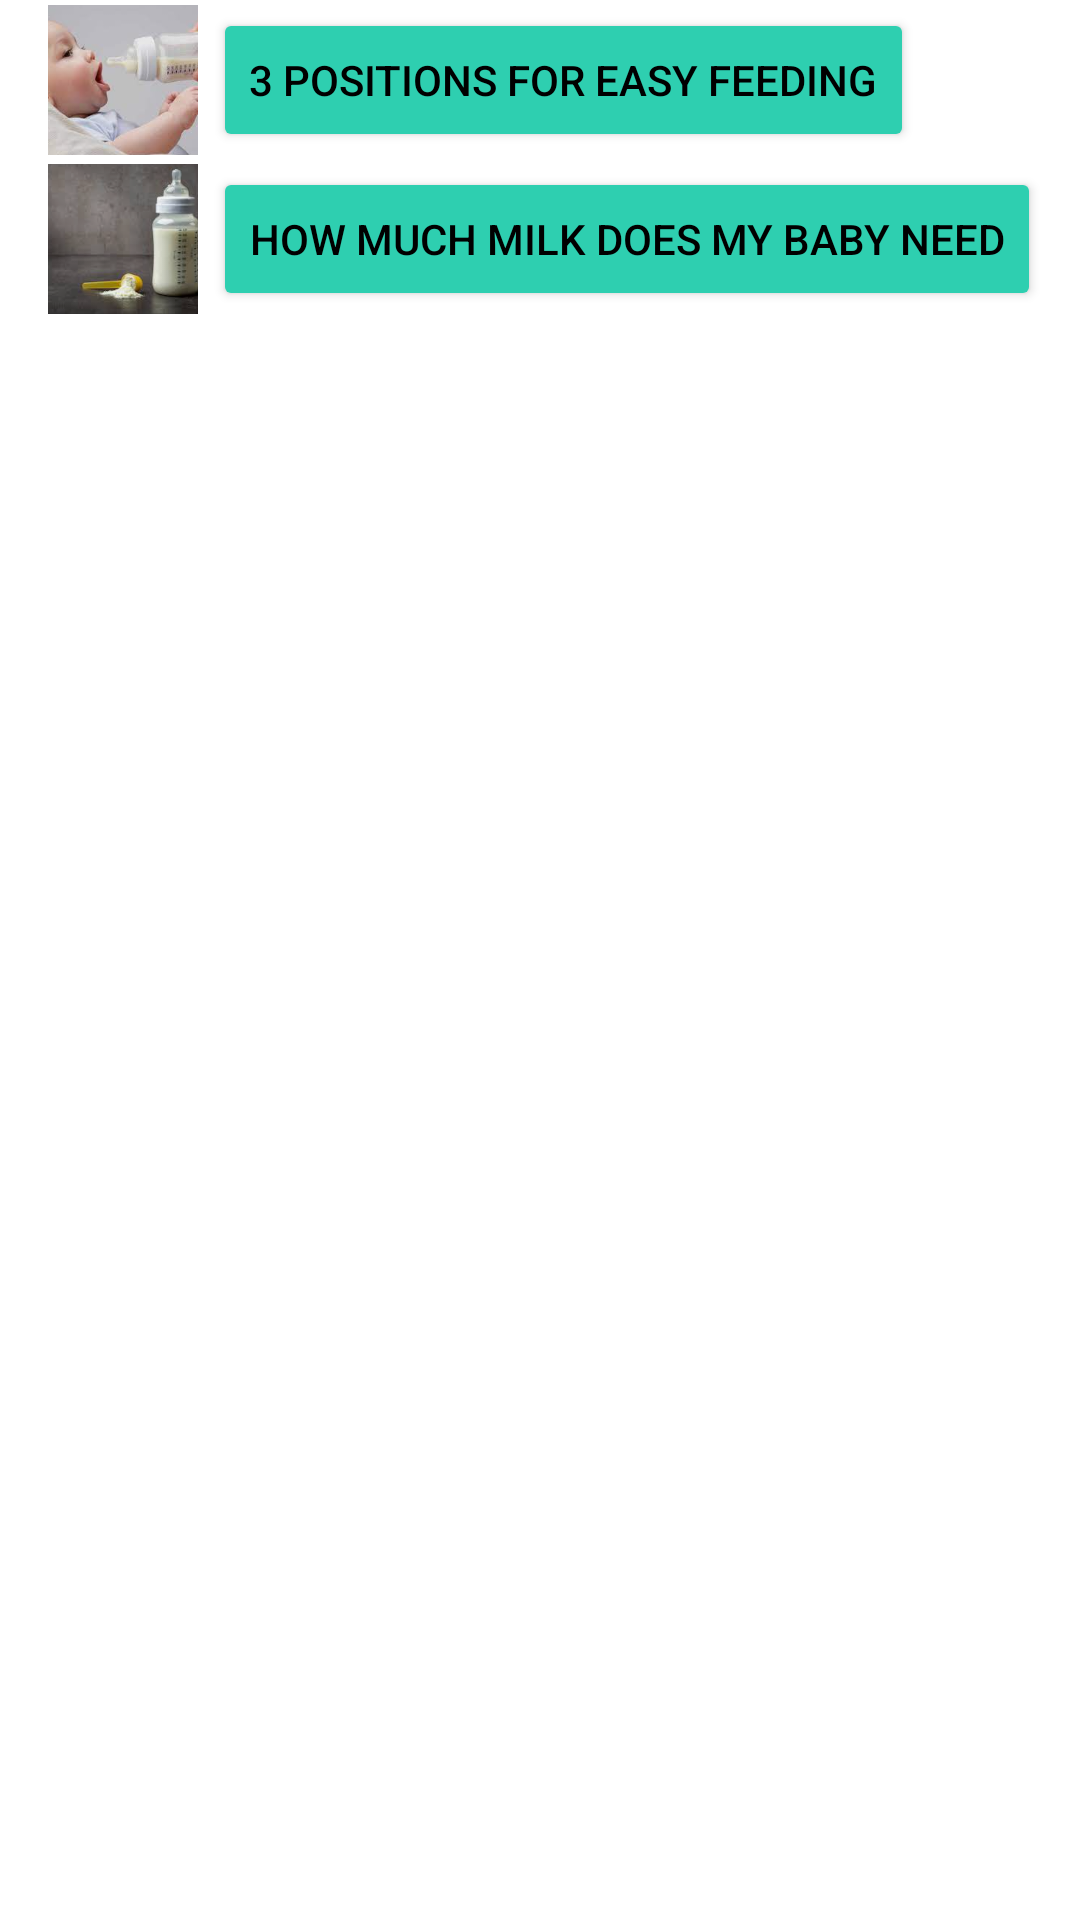

Screen size 1080px×1920px. Icon name, then its box in pixels as bbox=[x1, y1, x2, y2]:
babyfeed: bbox=[48, 5, 198, 155], bbox=[48, 164, 198, 314]
